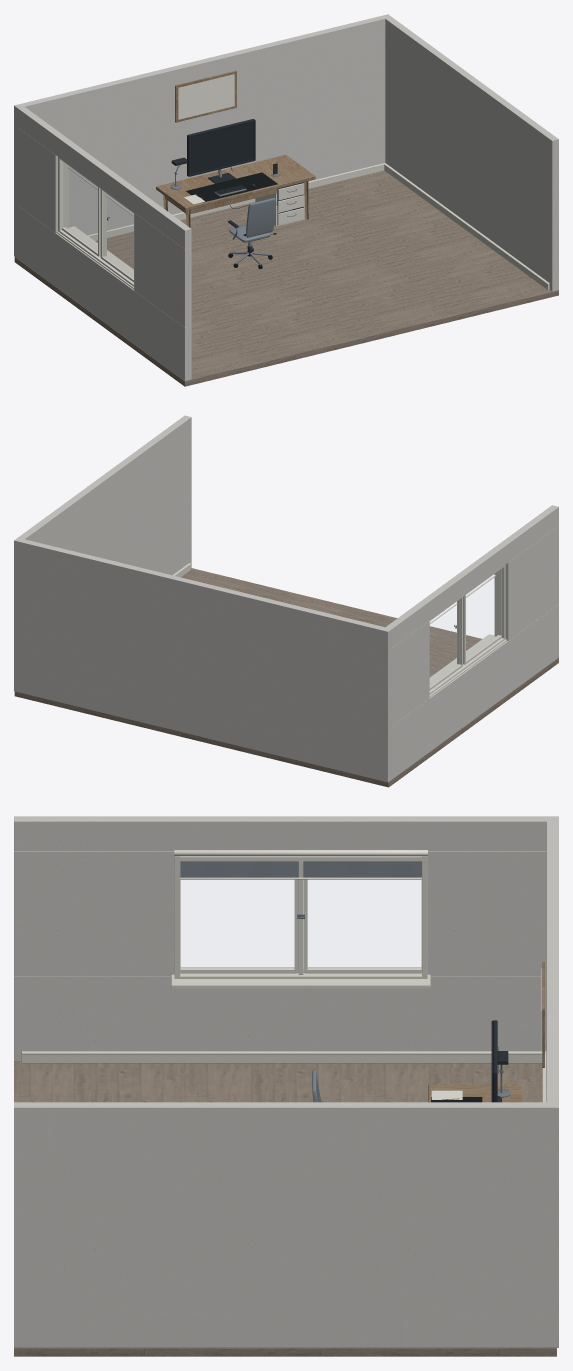
File: room-corner-low.glb
The picture shows the model from 3 angles, top to bottom: view 1: azimuth 30°, elevation 25°; view 2: azimuth 150°, elevation 25°; view 3: azimuth 270°, elevation 25°; orthographic projection. The views are drawn at different scales.
Visible parts, largest first — view 1: room-corner-authored-solids; view 2: room-corner-authored-solids; view 3: room-corner-authored-solids.
Part boxes in pixels (bbox=[...]): room-corner-authored-solids: bbox=[14, 14, 558, 386]; room-corner-authored-solids: bbox=[14, 415, 558, 787]; room-corner-authored-solids: bbox=[14, 816, 558, 1356].
Bounding box in the file's own units: 6.6 × 2.63 × 5.22.
14 materials, 4 textured.
